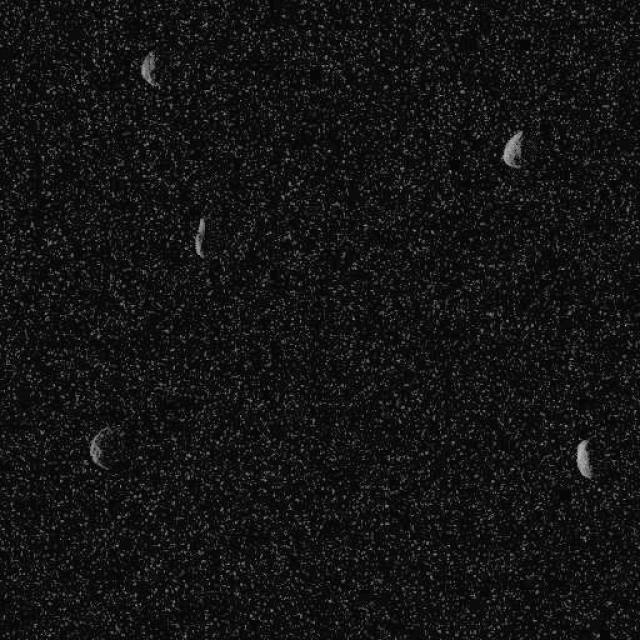D2: (88, 423, 128, 472), (500, 129, 524, 169), (139, 48, 160, 88), (575, 438, 593, 478), (192, 216, 206, 258)
